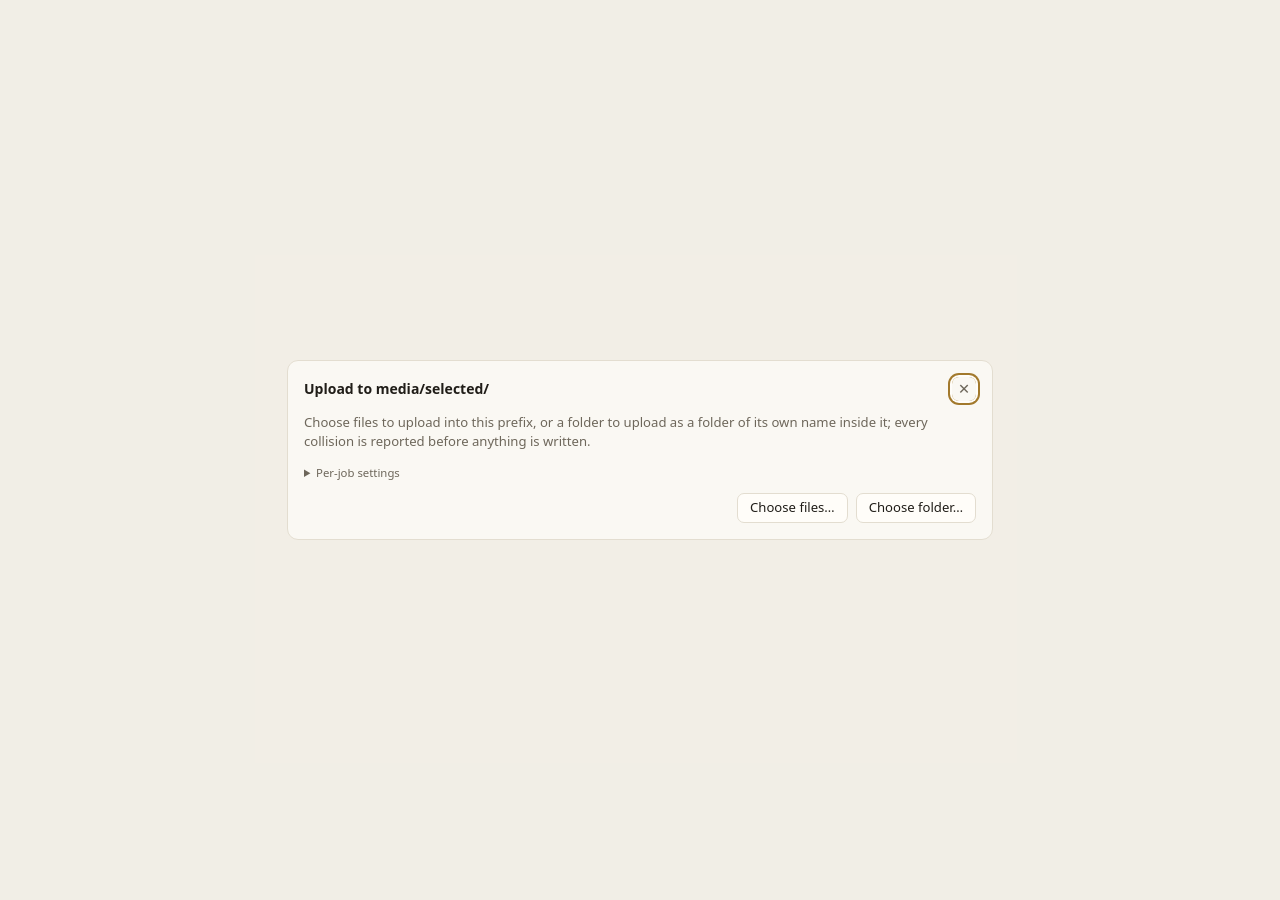
Test: upload preflight binding › shows a current rejection without enabling Start
Click the button "Choose files…": (792, 508) [737,493,848,523]
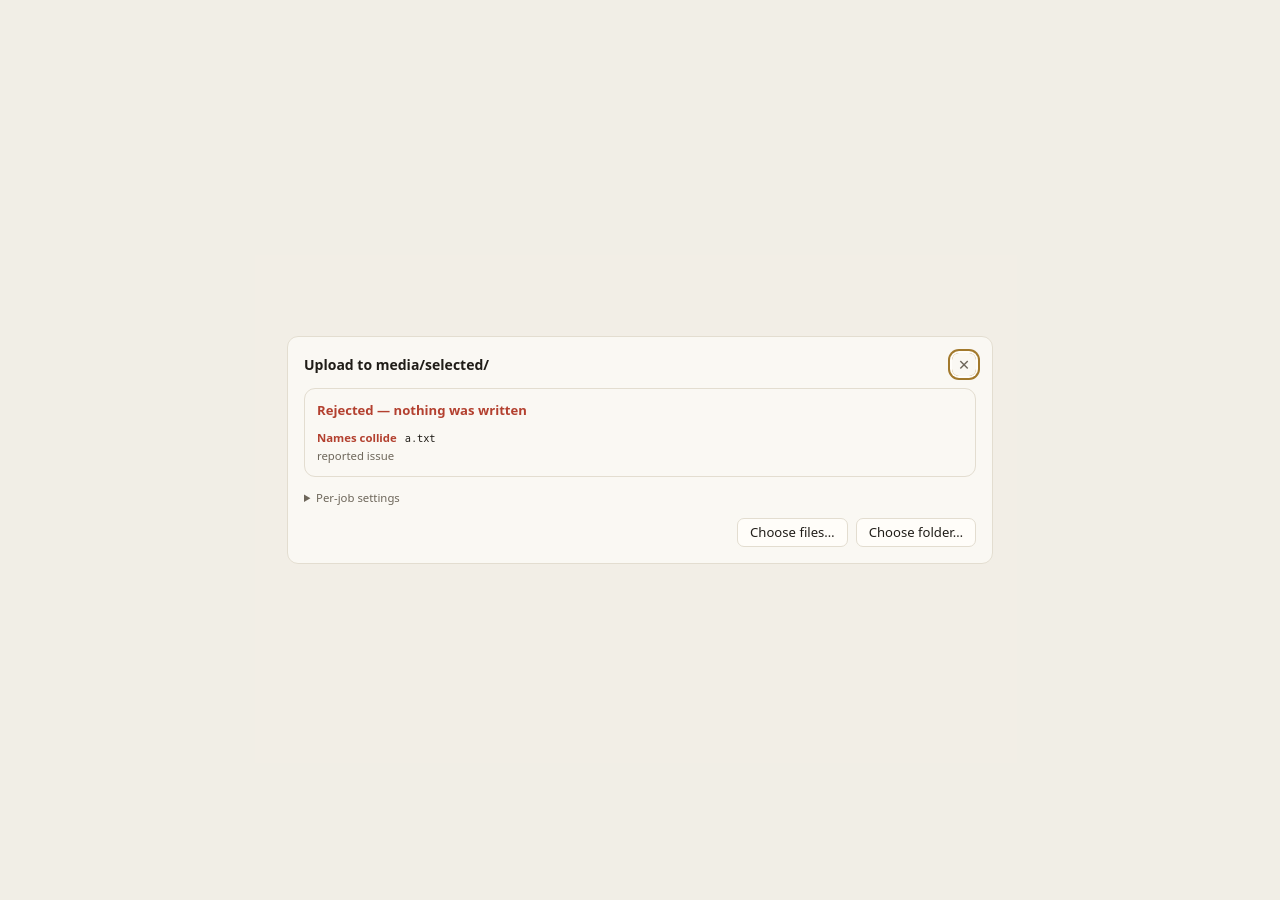
Expected: the text "Rejected" is shown, [317,401,527,419]
Expected: the text "reported issue" is shown, [317,448,394,463]
